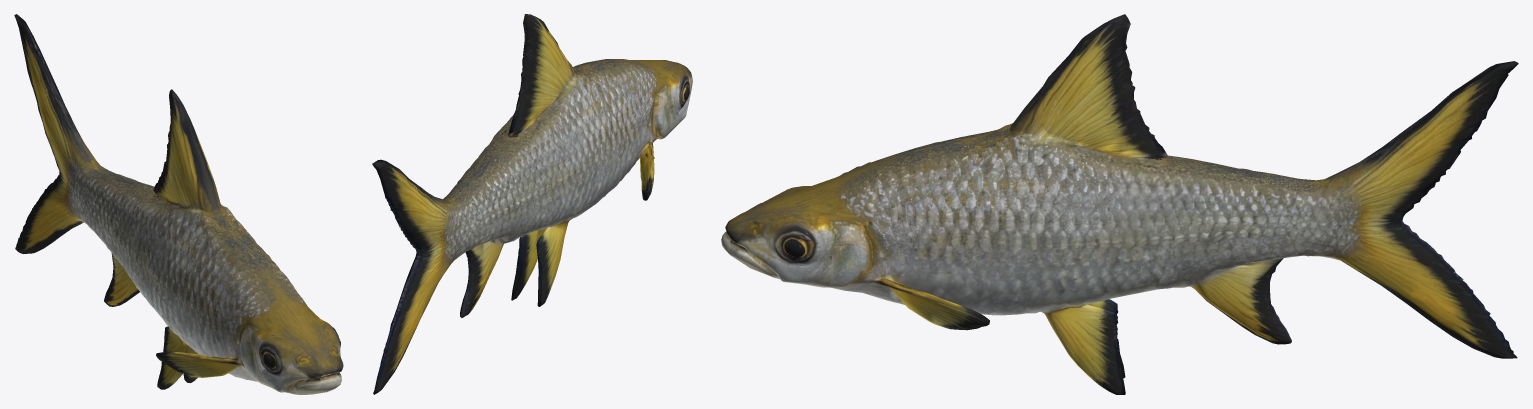
The model's file is bala.glb.
The picture shows the model from 3 angles, left to right: view 1: azimuth 30°, elevation 25°; view 2: azimuth 150°, elevation 25°; view 3: azimuth 270°, elevation 25°; orthographic projection. The views are drawn at different scales.
Parts seen in each view (by area): view 1: tripo_node_c403b385-e885-41bb-8cc4-6d2695daba07; view 2: tripo_node_c403b385-e885-41bb-8cc4-6d2695daba07; view 3: tripo_node_c403b385-e885-41bb-8cc4-6d2695daba07.
Part boxes in pixels (x1,y1,x2,y2): tripo_node_c403b385-e885-41bb-8cc4-6d2695daba07: [14, 14, 343, 394]; tripo_node_c403b385-e885-41bb-8cc4-6d2695daba07: [372, 14, 692, 394]; tripo_node_c403b385-e885-41bb-8cc4-6d2695daba07: [721, 14, 1518, 394].
Bounding box in the file's own units: 0.2578 × 0.5153 × 1.
1 material, 1 textured.
